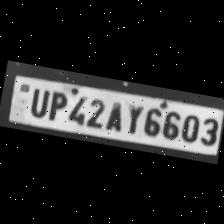0: (176, 111, 200, 142)
2: (83, 94, 107, 128)
3: (197, 113, 222, 147)
4: (64, 90, 88, 125)
6: (138, 102, 162, 138), (159, 107, 181, 139)
A: (101, 97, 126, 132)
P: (44, 86, 68, 122)
U: (25, 84, 51, 119)
Y: (121, 100, 144, 136)
